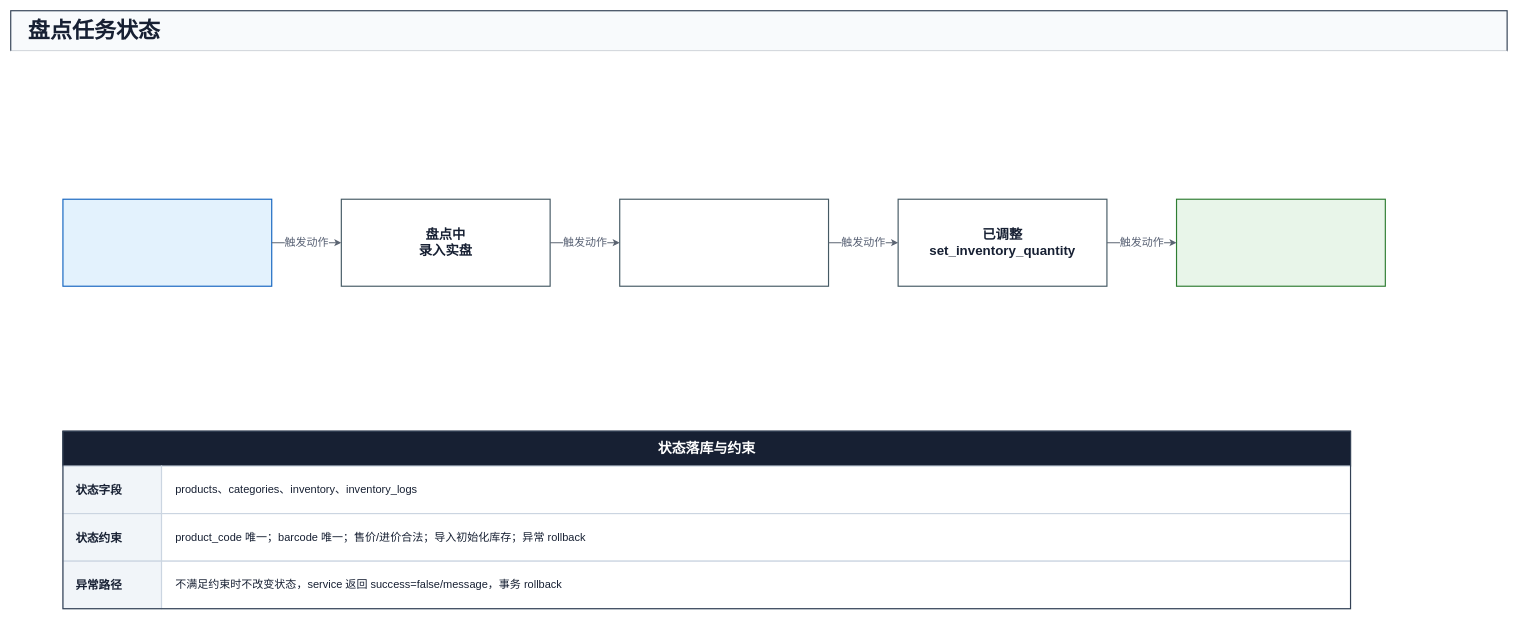
This 1517x619 diagram has some shape labels left out. The centre of each missing label's shape, as x and y in pixels:
"已关闭 输出差异清单" belongs at (1281,242).
"待复核 计算差异" belongs at (724,242).
"待盘点 创建任务" belongs at (167,242).
"状态图｜状态、触发动作、持久化字段" belongs at (758,62).
